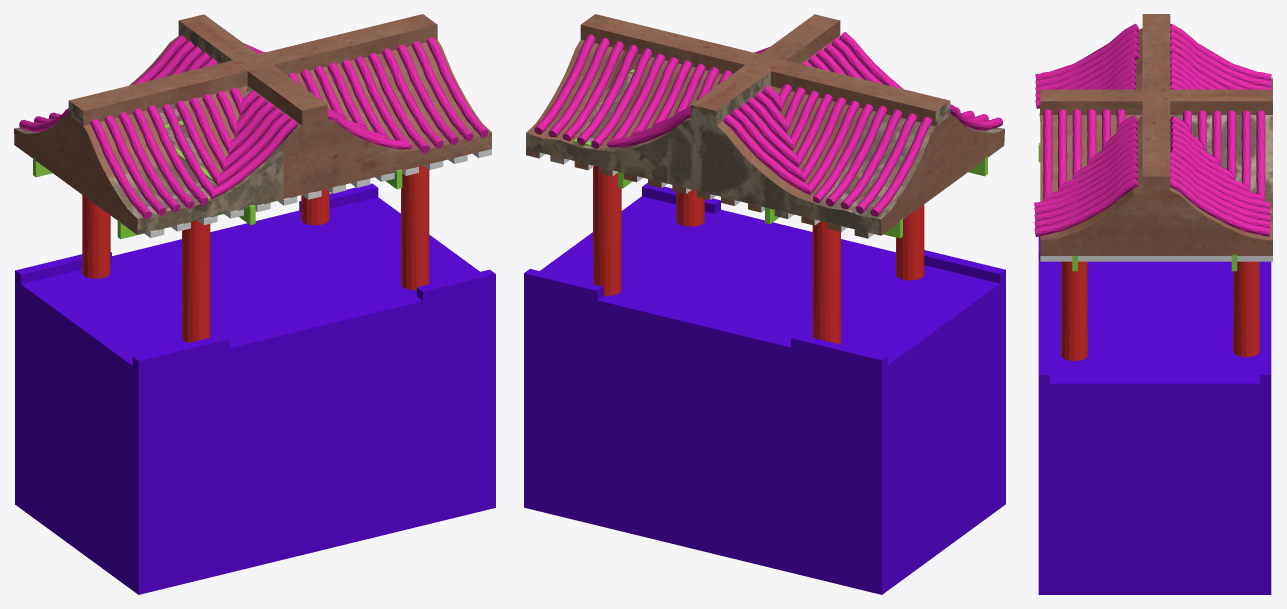
File: ChineseRoof4Way.fbx
The picture shows the model from 3 angles, left to right: view 1: azimuth 30°, elevation 25°; view 2: azimuth 150°, elevation 25°; view 3: azimuth 270°, elevation 25°; orthographic projection. The views are drawn at different scales.
Parts seen in each view (by area): view 1: 4way; view 2: 4way; view 3: 4way.
Part boxes in pixels (bbox=[...]): 4way: bbox=[14, 14, 495, 594]; 4way: bbox=[524, 14, 1005, 594]; 4way: bbox=[1034, 14, 1272, 594].
Size of the model in its own units: 1999 by 2370 by 1230.
